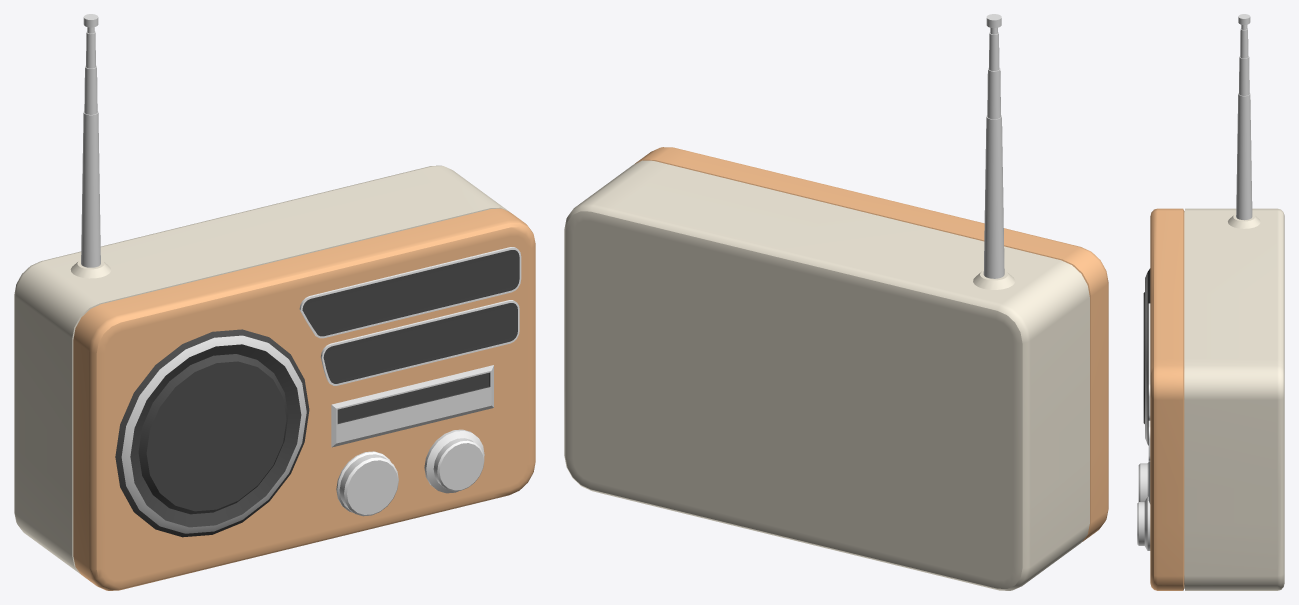
Rendered from prp_radio_01.fbx.
3 renders of one model, left to right at view 1: azimuth 30°, elevation 25°; view 2: azimuth 150°, elevation 25°; view 3: azimuth 270°, elevation 25°, orthographic. The views are drawn at different scales.
Visible parts, largest first — view 1: PRP_Radio_01; view 2: PRP_Radio_01; view 3: PRP_Radio_01.
Part boxes in pixels (x1=…): PRP_Radio_01: x1=14, y1=14, x2=535, y2=590; PRP_Radio_01: x1=564, y1=14, x2=1108, y2=590; PRP_Radio_01: x1=1137, y1=14, x2=1284, y2=590.
Bounding box in the file's own units: 56.18 × 63.53 × 19.8.
